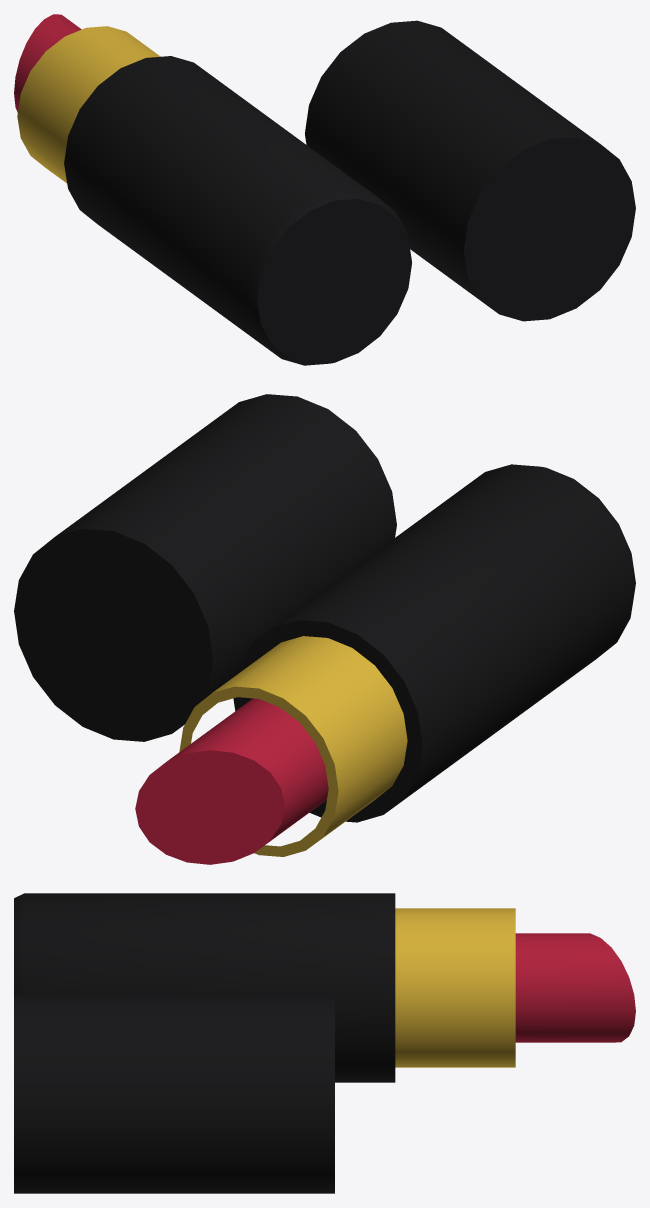
The model's file is lipstick.glb.
3 views of the same model, one above another, from view 1: azimuth 30°, elevation 25°; view 2: azimuth 150°, elevation 25°; view 3: azimuth 270°, elevation 25° (orthographic). The views are drawn at different scales.
Visible parts, largest first — view 1: lipstick; view 2: lipstick; view 3: lipstick.
Part boxes in pixels (<box>): lipstick: <box>14,14,635,365</box>; lipstick: <box>14,394,635,864</box>; lipstick: <box>14,893,635,1193</box>.
Bounding box in the file's own units: 0.0489 × 0.022 × 0.0682.
